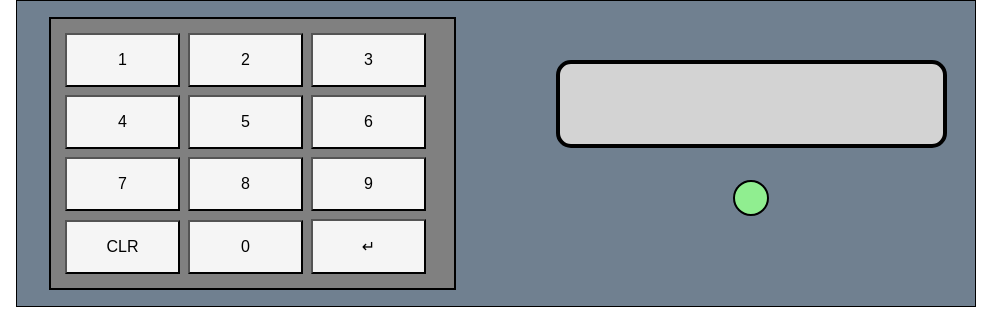
Test: renders div with entered pin
This screenshot has width=993, height=324.
Click the button with class "input-button" showing "1": click(122, 60) [65,33,180,87]
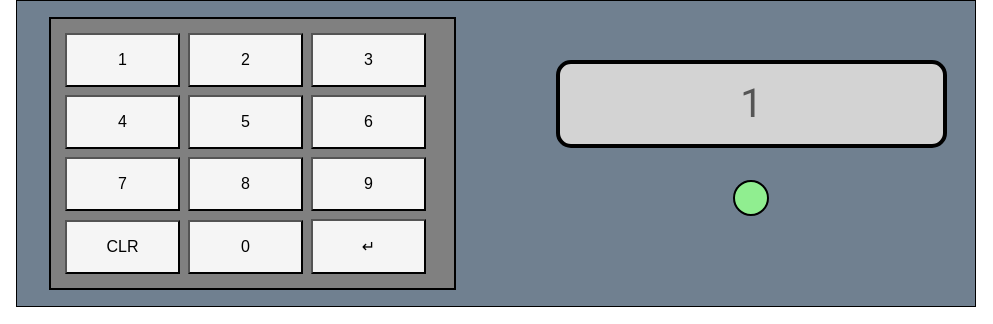
Click the button with class "input-button" showing "1": click(122, 60) [65,33,180,87]
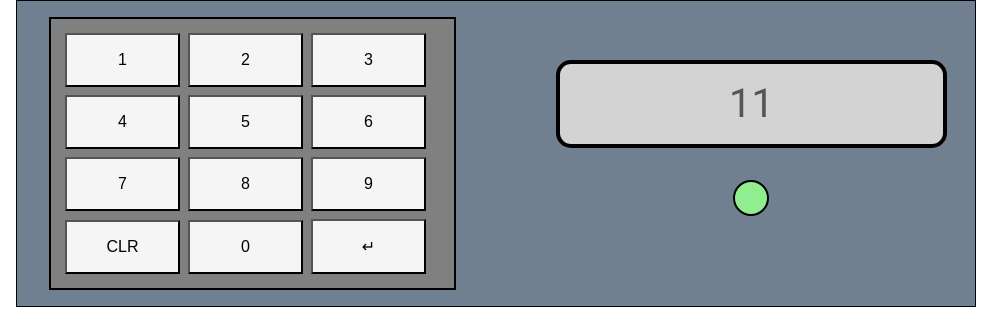
Click the button with class "input-button" showing "1": click(122, 60) [65,33,180,87]
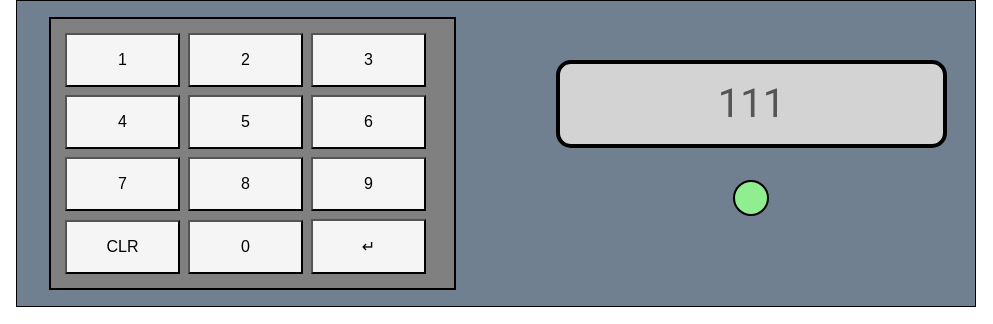
Click the button with class "input-button" showing "1": click(122, 60) [65,33,180,87]
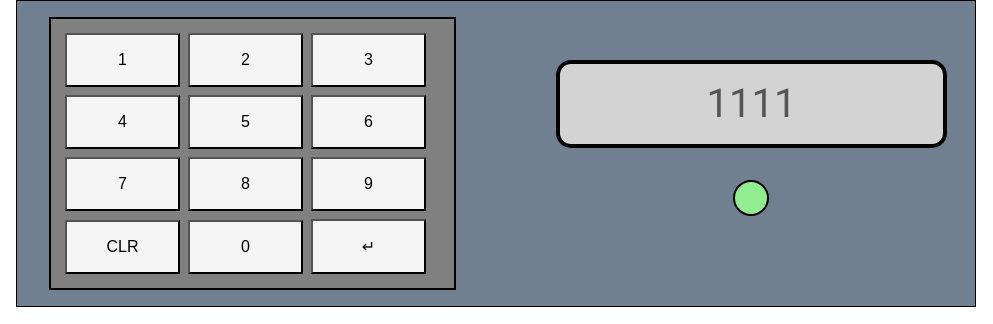
Expected: the text with class "display-text" reads "1111", [706,80,796,126]
